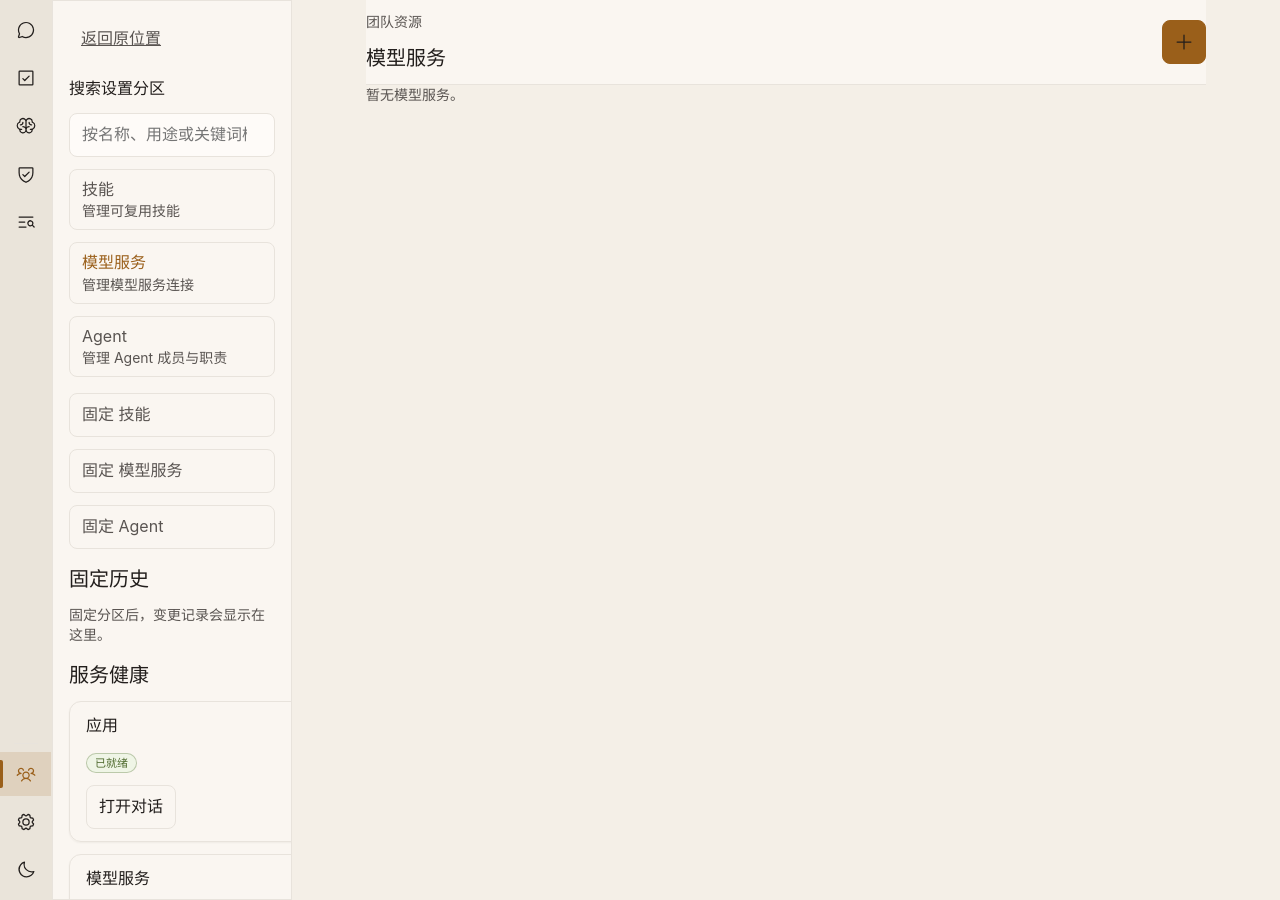
Test: Provider configuration panel › does not guess or resend an uncertain create when GET cannot identify its response
Check: the text "暂无模型服务。" is shown, box [366,86,464,103]
Step 1. Click the button named "创建模型服务" → {"x": 1184, "y": 42}, box [1162,20,1206,64]
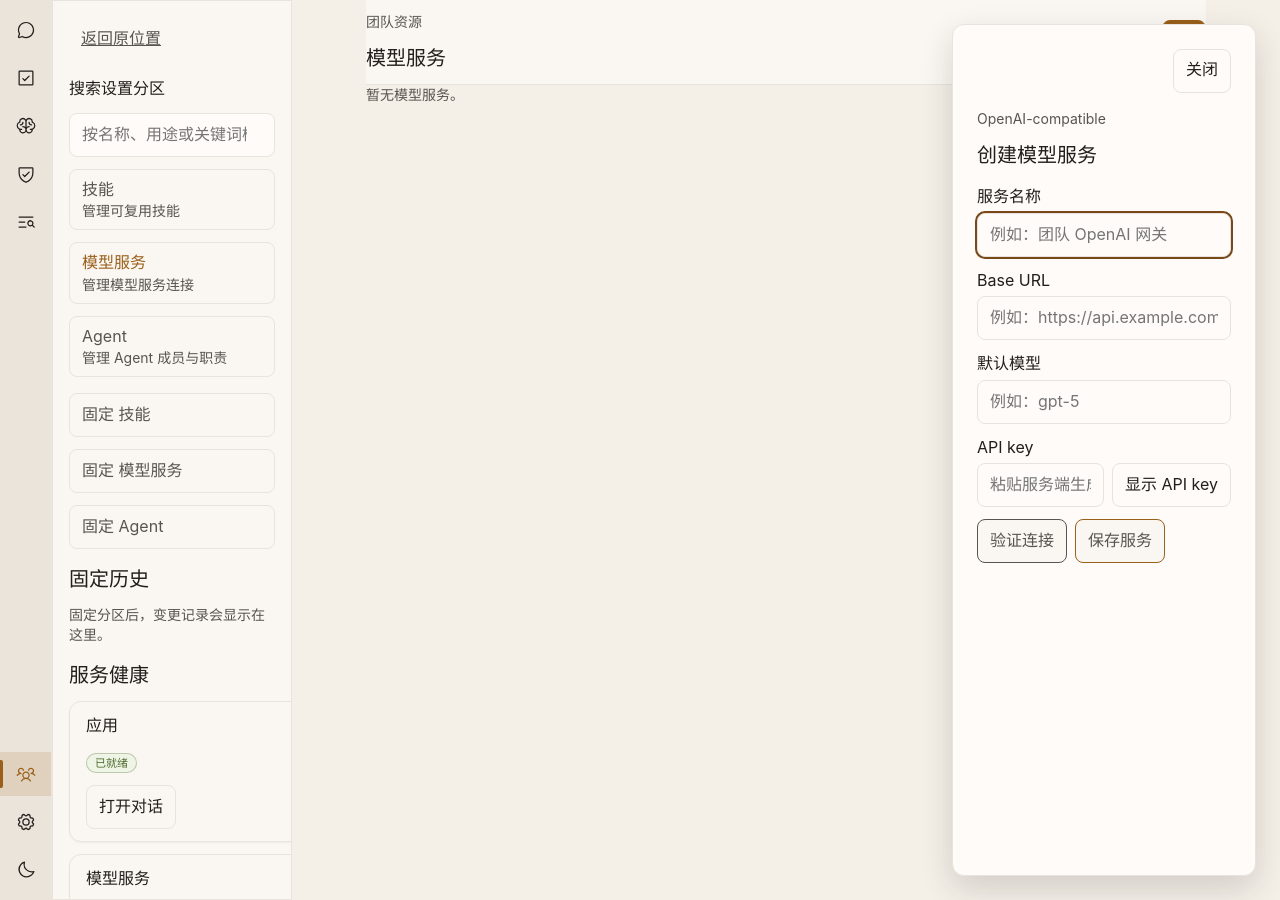
Step 2. Type "Primary" into the field labelled "服务名称" → {"x": 1104, "y": 234}, box [977,212,1231,256]
Step 3. Type "https://example.test/v1" into the field labelled "Base URL" → {"x": 1104, "y": 318}, box [977,296,1231,340]
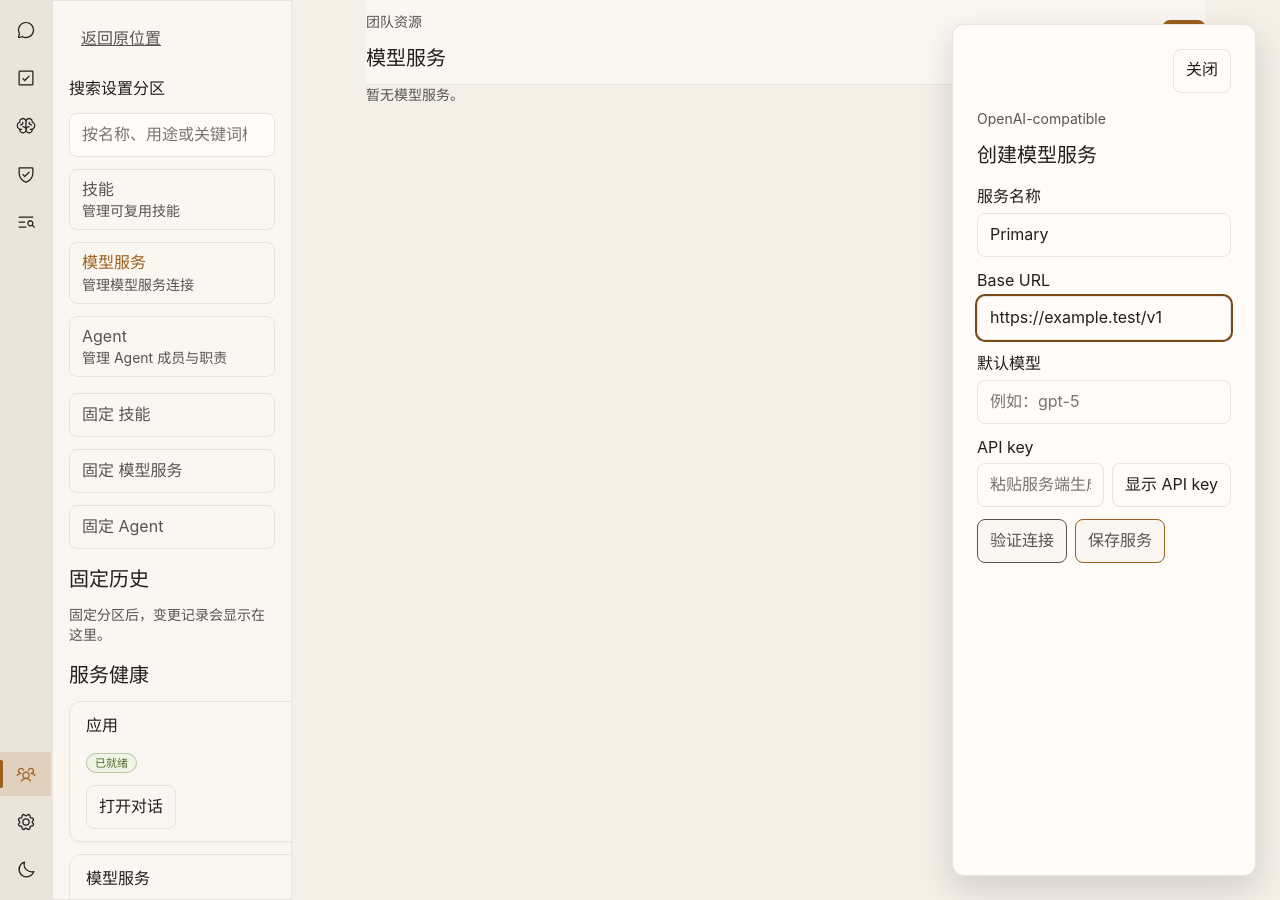
Step 4. Type "model-a" into the field labelled "默认模型" → {"x": 1104, "y": 402}, box [977,380,1231,424]
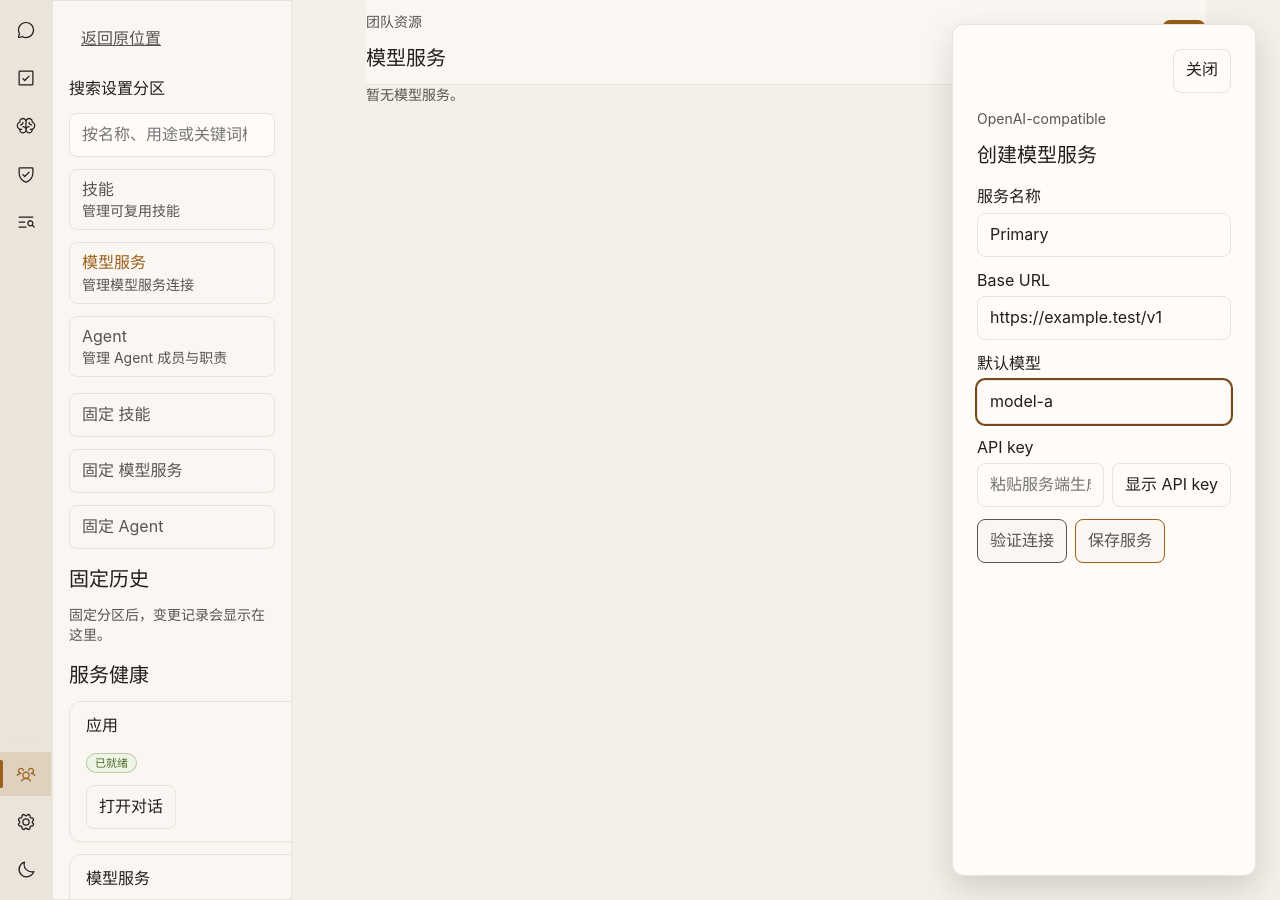
Step 5. Type "ui-provider-secret-DO-NOT-LEAK-ABCD" into the password field labelled "API key" → {"x": 1040, "y": 485}, box [977,463,1104,507]
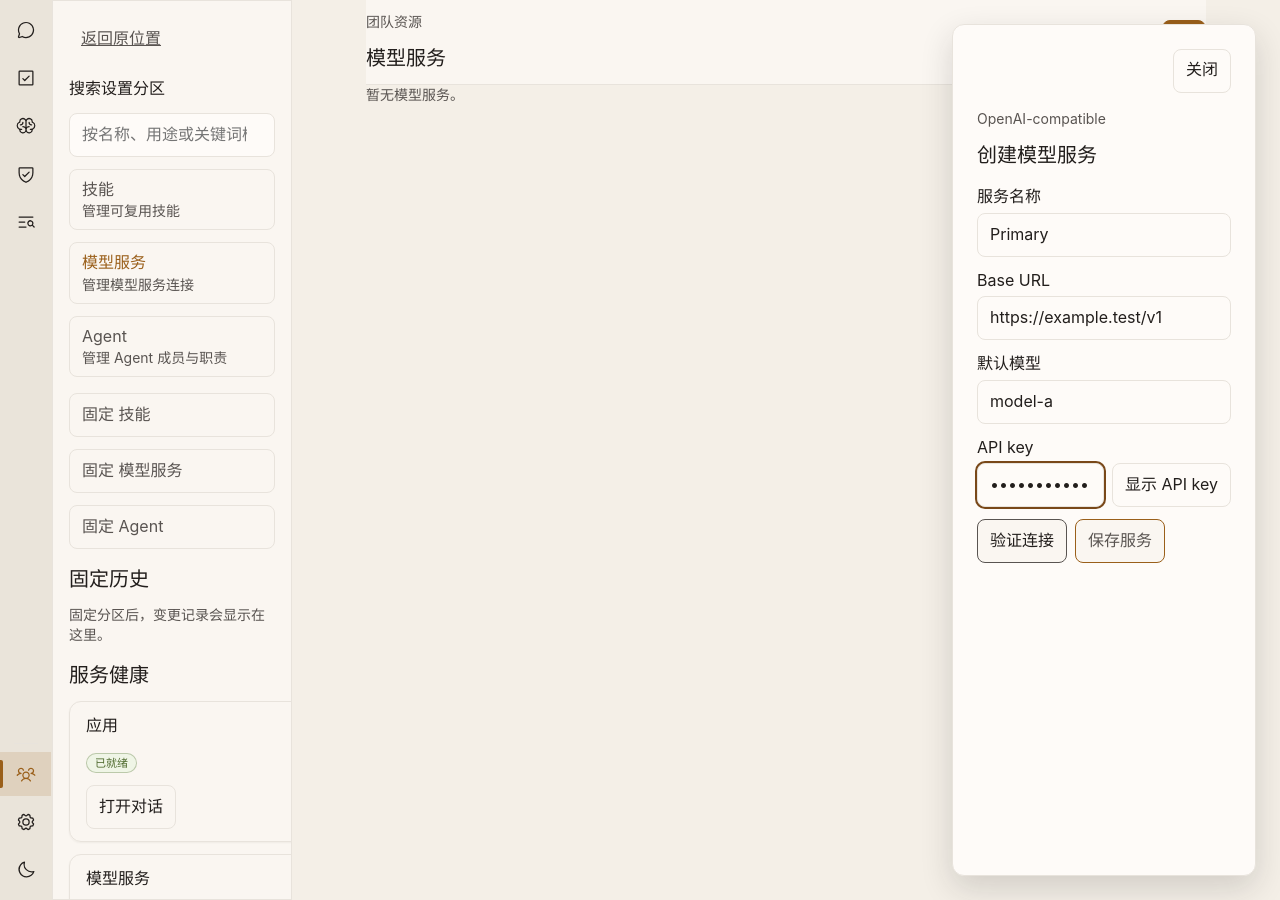
Step 6. Click the button "验证连接" → {"x": 1022, "y": 541}, box [977,519,1067,563]
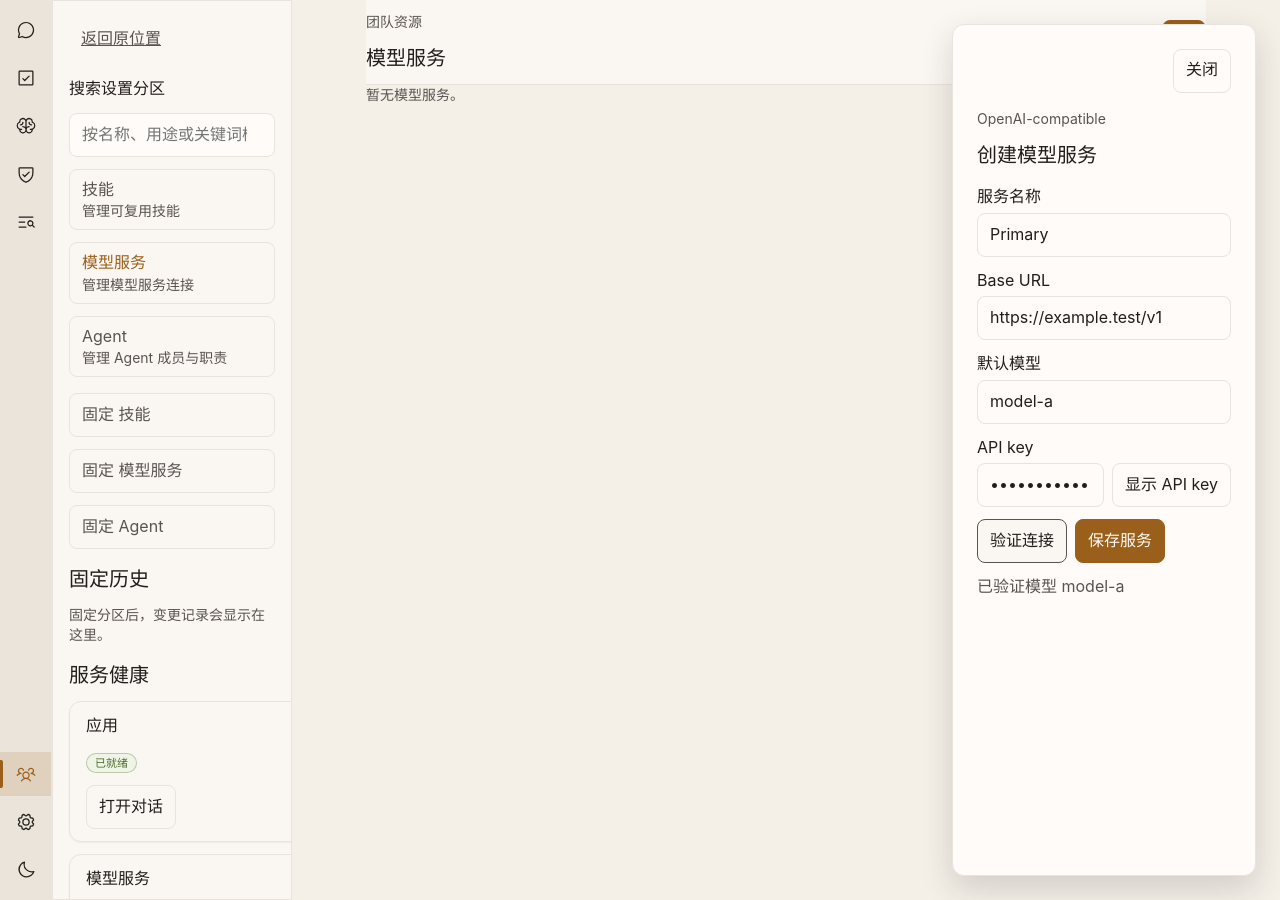
Check: the text "已验证模型 model-a" is shown, box [977,576,1124,596]
Step 7. Click the button "保存服务" → {"x": 1120, "y": 541}, box [1075,519,1165,563]
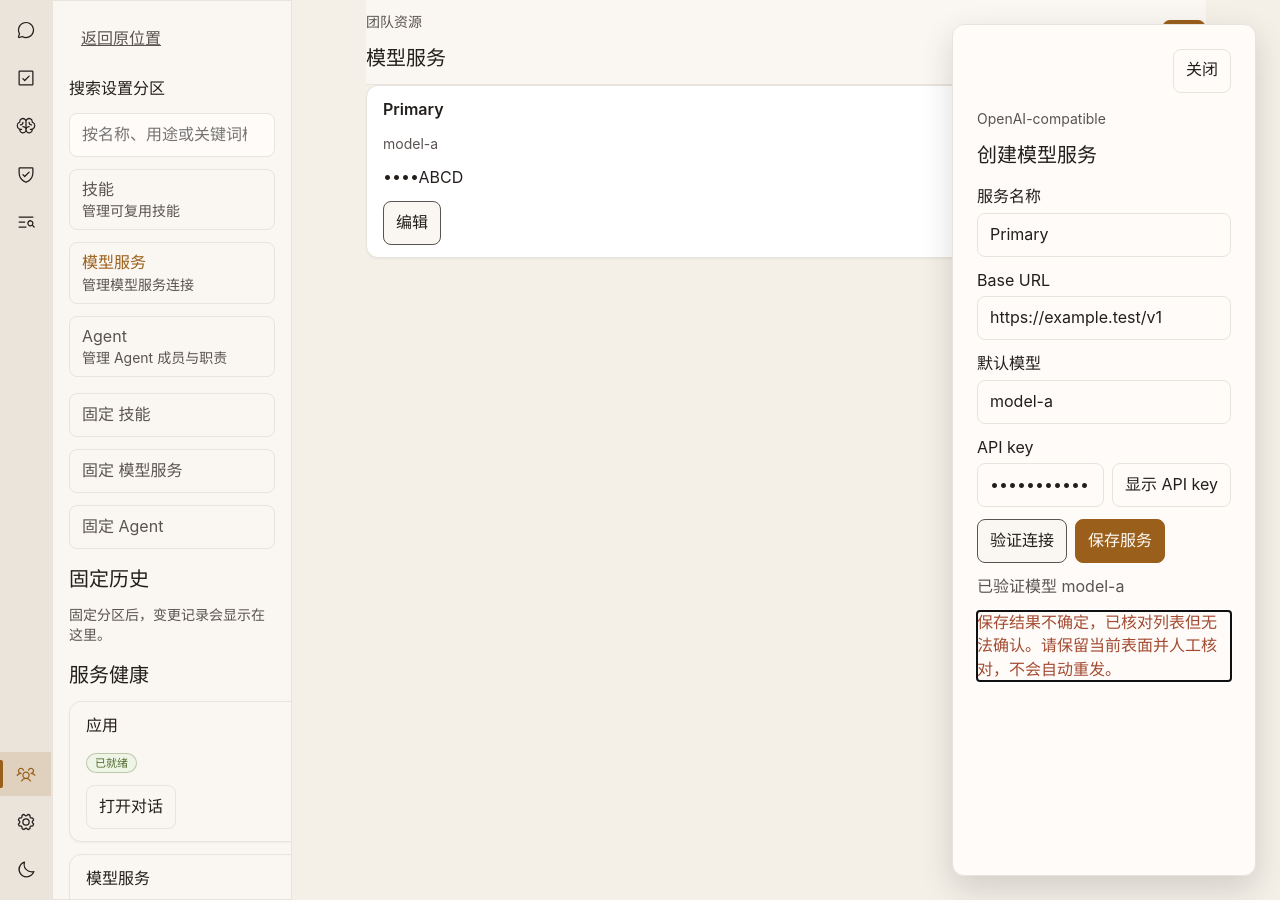
Check: the message "保存结果不确定，已核对列表但无法确认。请保留当前表面并人工核对，不会自动重发。" is shown, box [977,611,1231,681]
